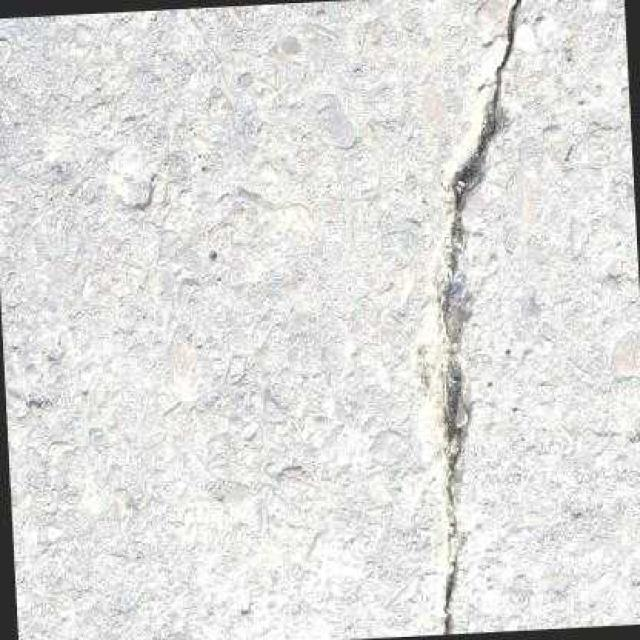D00: (435, 0, 519, 634)
